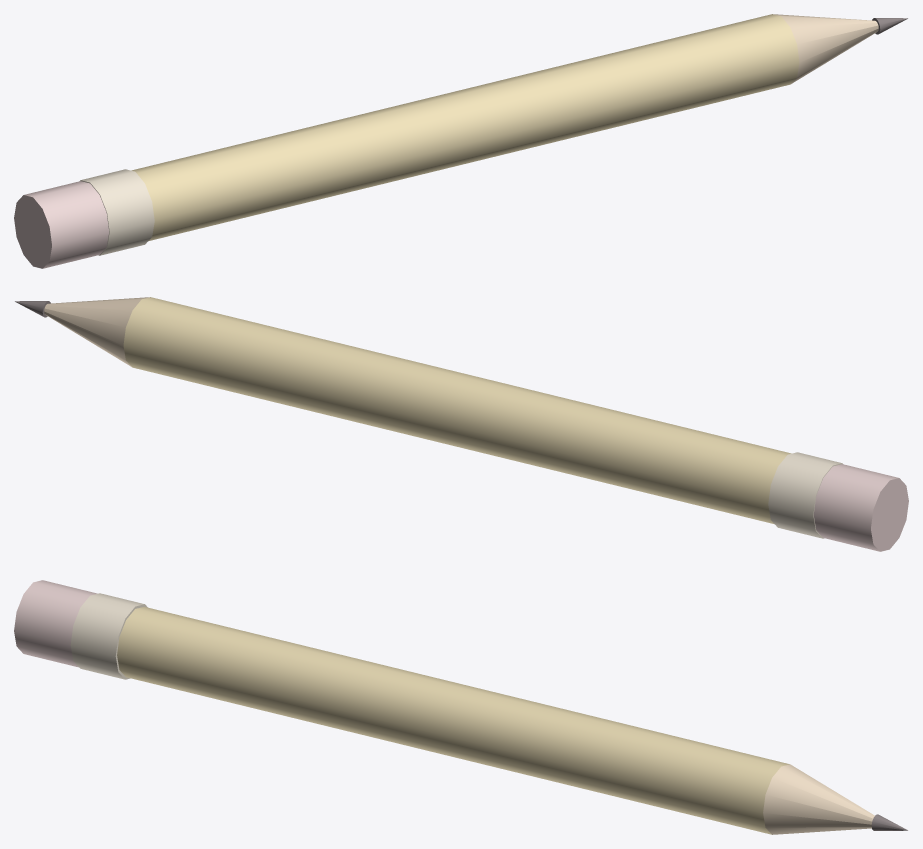
The model's file is pencil.glb.
The picture shows the model from 3 angles, top to bottom: view 1: azimuth 30°, elevation 25°; view 2: azimuth 150°, elevation 25°; view 3: azimuth 330°, elevation 25°; orthographic projection.
Visible parts, largest first — view 1: pencil.material0, pencil.material4, pencil.material3, pencil.material1; view 2: pencil.material0, pencil.material4, pencil.material3, pencil.material1; view 3: pencil.material0, pencil.material1, pencil.material4, pencil.material3.
Part boxes in pixels (bbox=[...]): pencil.material0: bbox=[131, 14, 799, 241]; pencil.material4: bbox=[14, 181, 109, 268]; pencil.material3: bbox=[80, 169, 154, 255]; pencil.material1: bbox=[772, 14, 878, 83]; pencil.material0: bbox=[123, 297, 791, 524]; pencil.material4: bbox=[813, 464, 908, 551]; pencil.material3: bbox=[768, 452, 842, 538]; pencil.material1: bbox=[44, 297, 150, 366]; pencil.material0: bbox=[117, 606, 789, 834]; pencil.material1: bbox=[763, 764, 874, 834]; pencil.material4: bbox=[14, 580, 97, 667]; pencil.material3: bbox=[70, 593, 147, 679].
Size of the model in its own units: 0.583 by 0.045 by 0.045.
